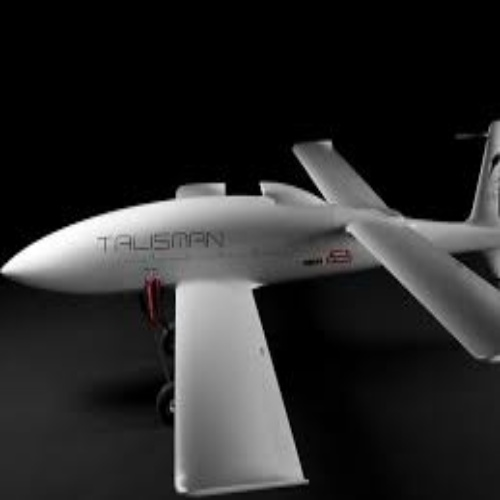uav: (4, 128, 500, 495)
